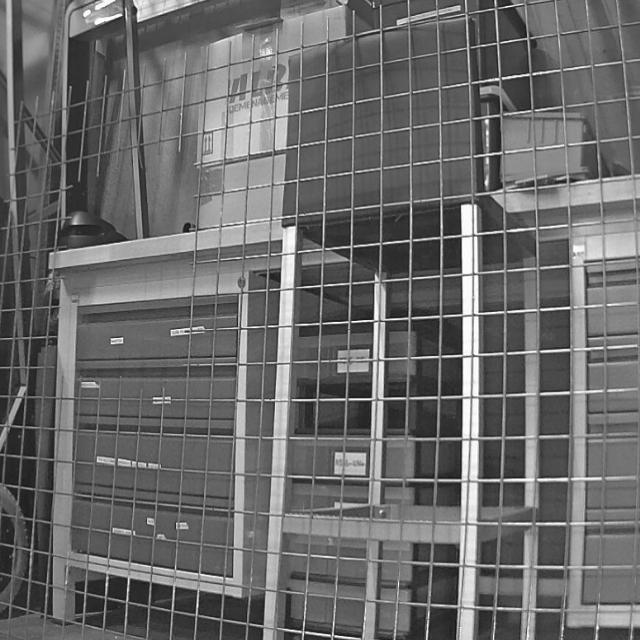fence line: (58, 157, 198, 332)
